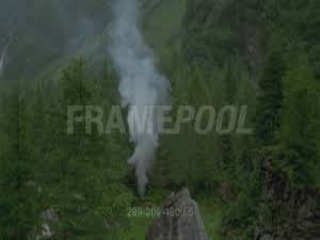smoke: (98, 24, 172, 198)
